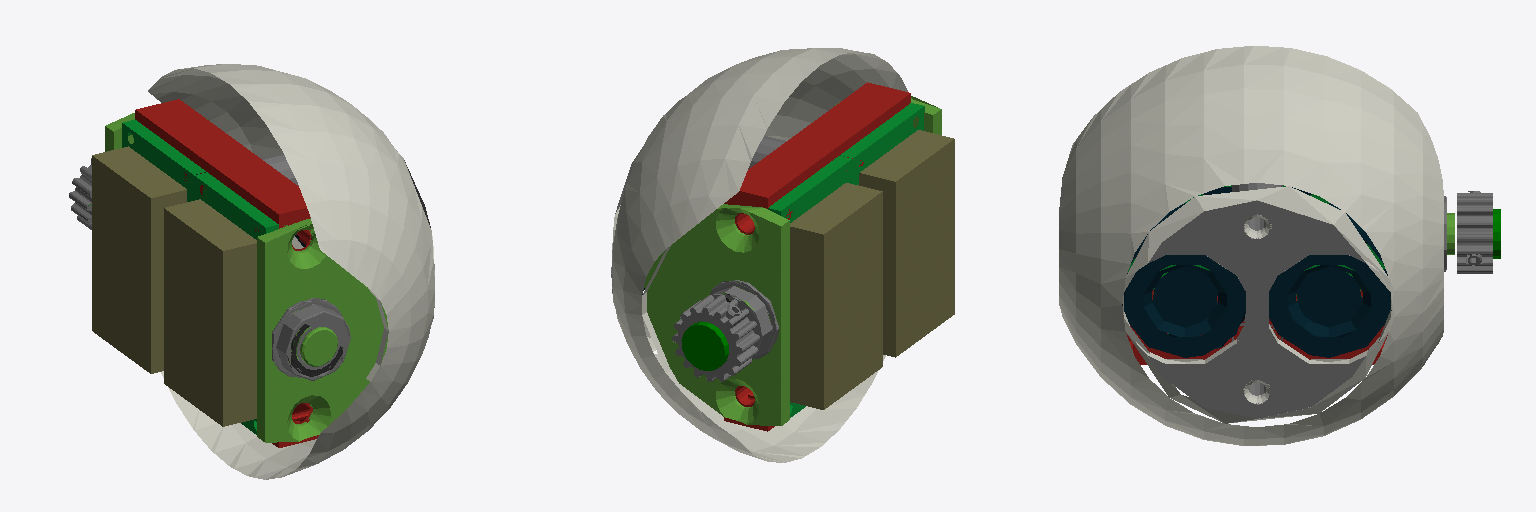
3 renders of one model, left to right at view 1: azimuth 30°, elevation 25°; view 2: azimuth 150°, elevation 25°; view 3: azimuth 270°, elevation 25°, orthographic.
Bounding box in the file's own units: 0.0301 × 0.05 × 0.0524.
Materials: 1 (1 with a texture image).